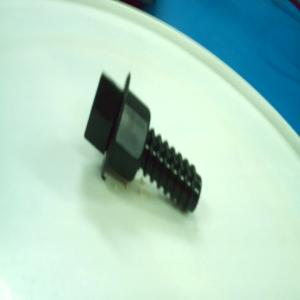parafuso: (85, 68, 205, 222)
